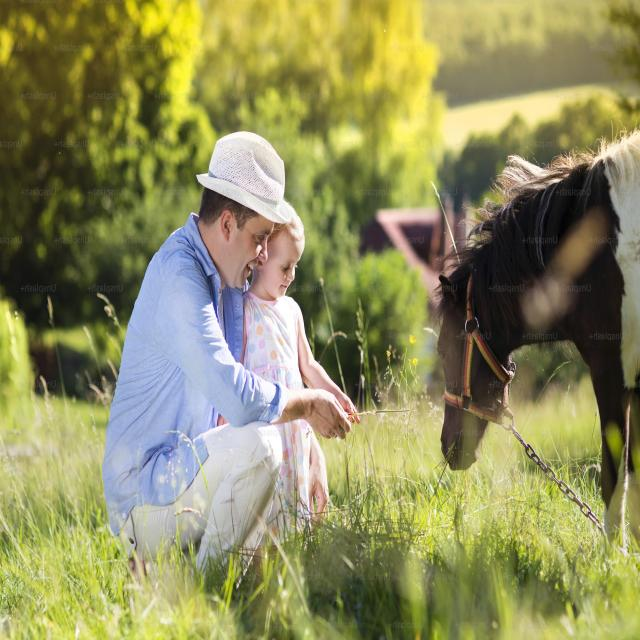adult: (102, 129, 346, 577), (238, 201, 356, 542)
